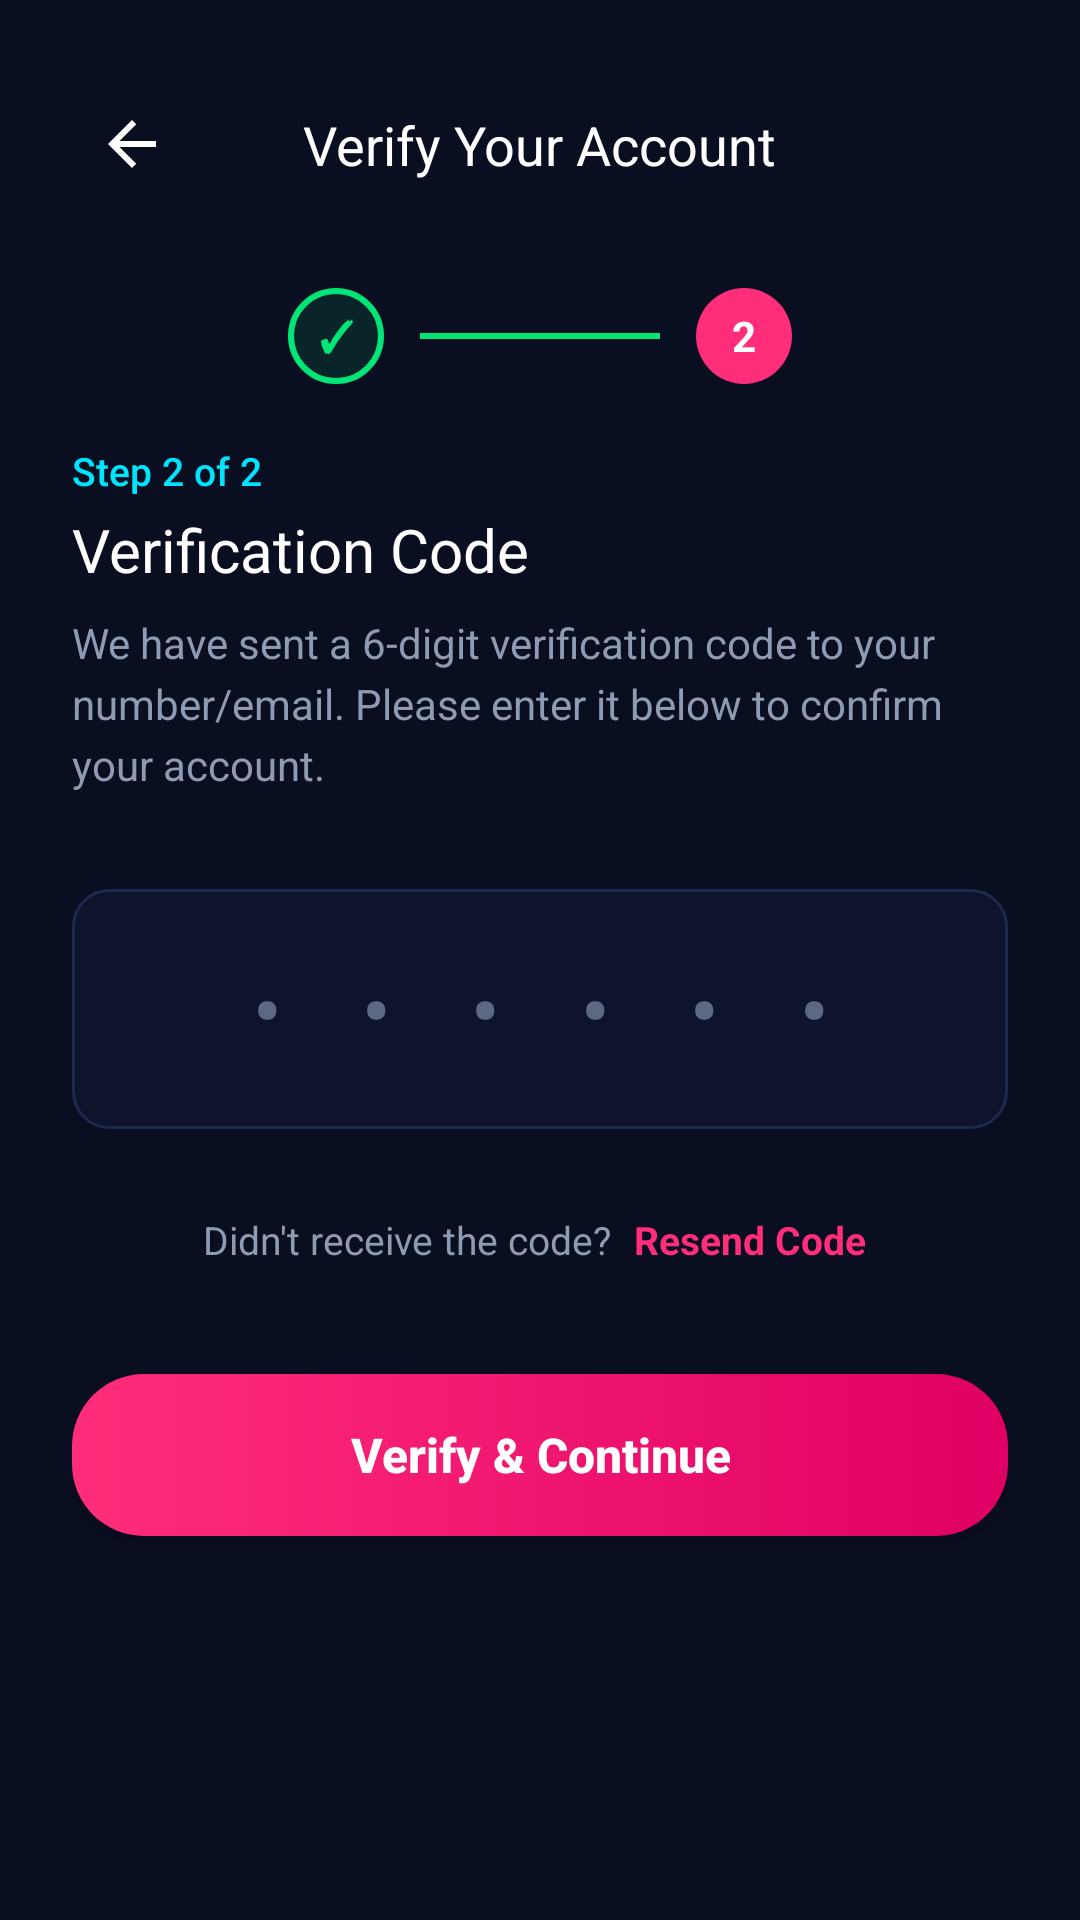

Icons on this 1080w x 1920h Android screen, each with the point to tap as (x=x, y=y):
Back: (x=132, y=144)
